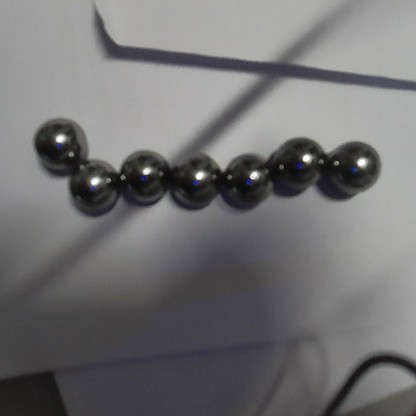ironball: (271, 137, 324, 190), (223, 152, 274, 207), (328, 139, 378, 192), (169, 152, 218, 206), (36, 119, 86, 169), (119, 149, 167, 200), (75, 163, 119, 212)
